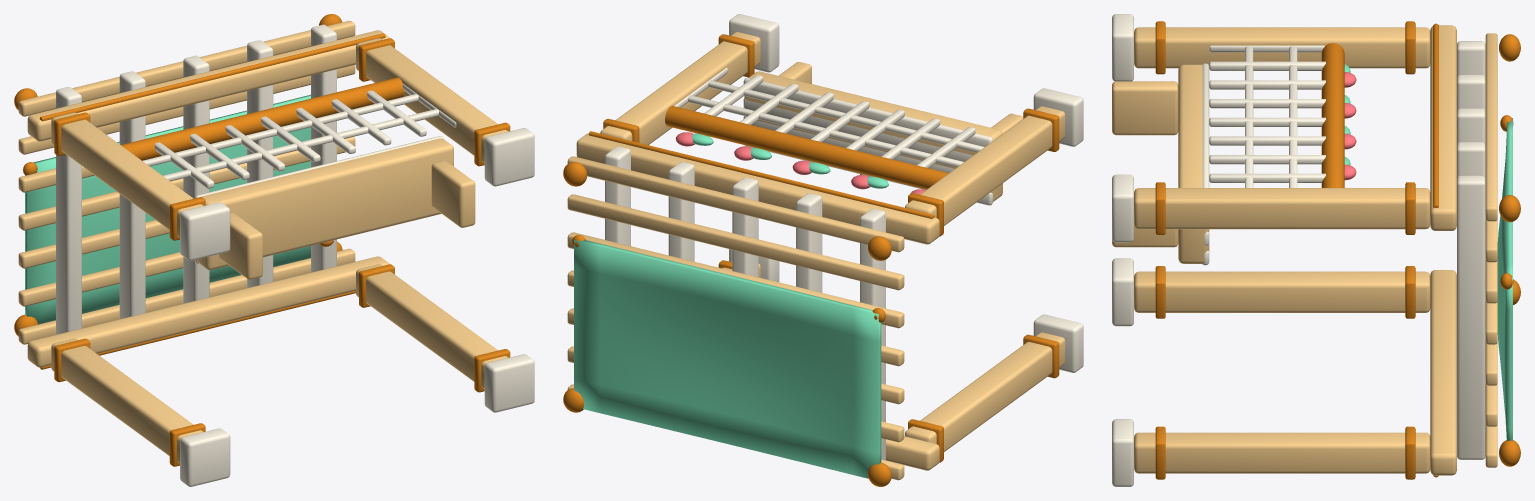
Rendered from GardenPergola_Premium.fbx.
The picture shows the model from 3 angles, left to right: view 1: azimuth 30°, elevation 25°; view 2: azimuth 150°, elevation 25°; view 3: azimuth 270°, elevation 25°; orthographic projection. The views are drawn at different scales.
Visible parts, largest first — view 1: GardenPergola; view 2: GardenPergola; view 3: GardenPergola.
Part boxes in pixels (bbox=[...]): GardenPergola: bbox=[14, 14, 534, 486]; GardenPergola: bbox=[563, 14, 1083, 486]; GardenPergola: bbox=[1112, 14, 1520, 486].
Size of the model in its own units: 2 by 1.46 by 1.85.
